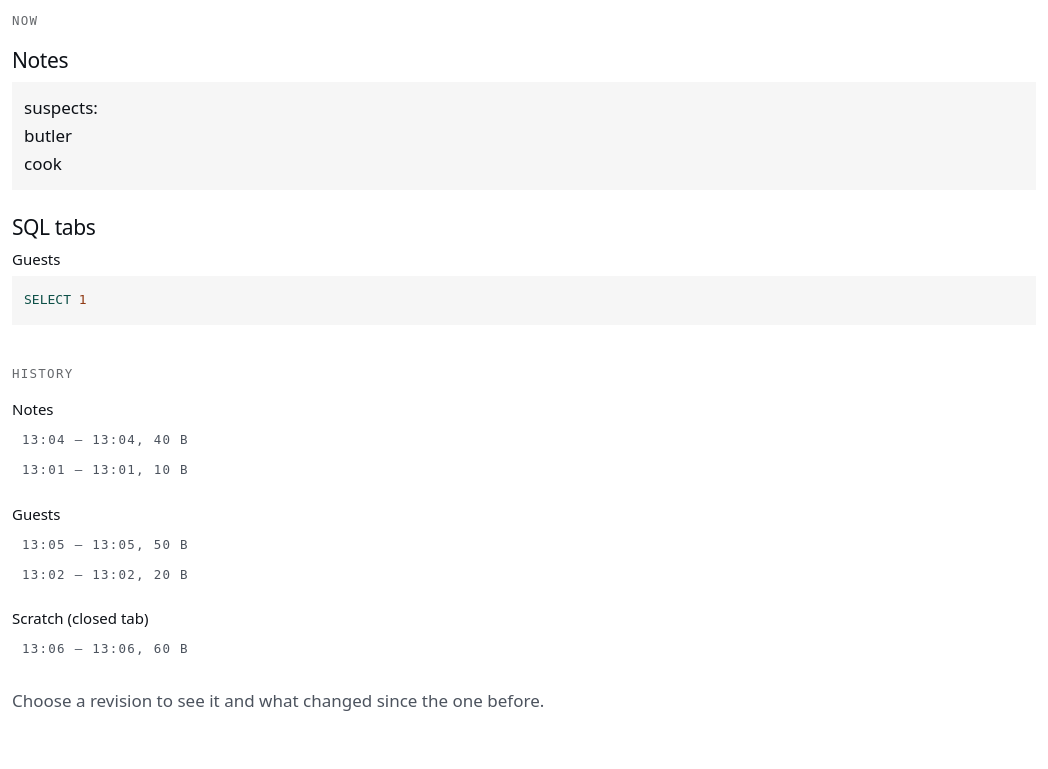
it: the history › the first revision of a document is all new
What coordinates should you click on to do the following:
click the button "13:01 – 13:01, 10 B"
I would click on:
 (105, 470)
Its box is 12,457 -> 1036,484.
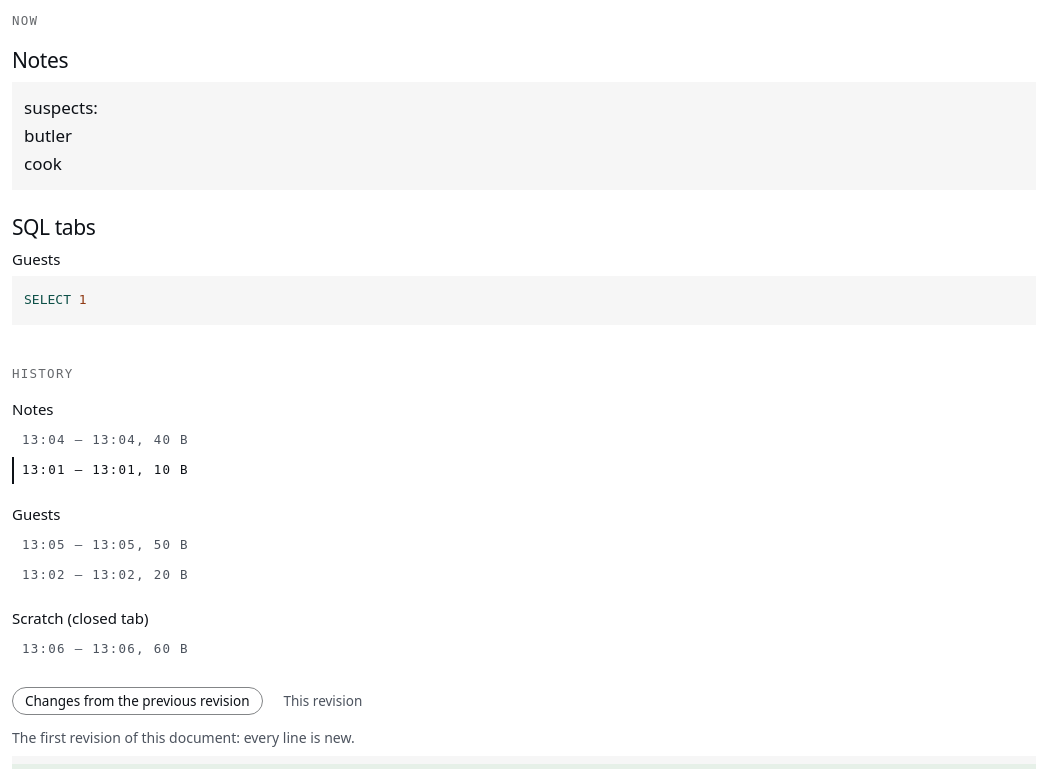
Expected: the text "The first revision of this document: every line is new." is shown, 12,727 -> 355,748
